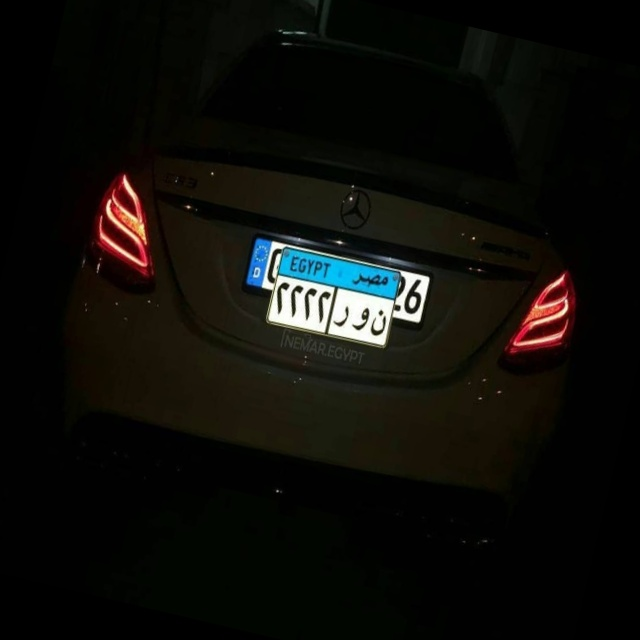License Plate: (263, 243, 405, 352)
